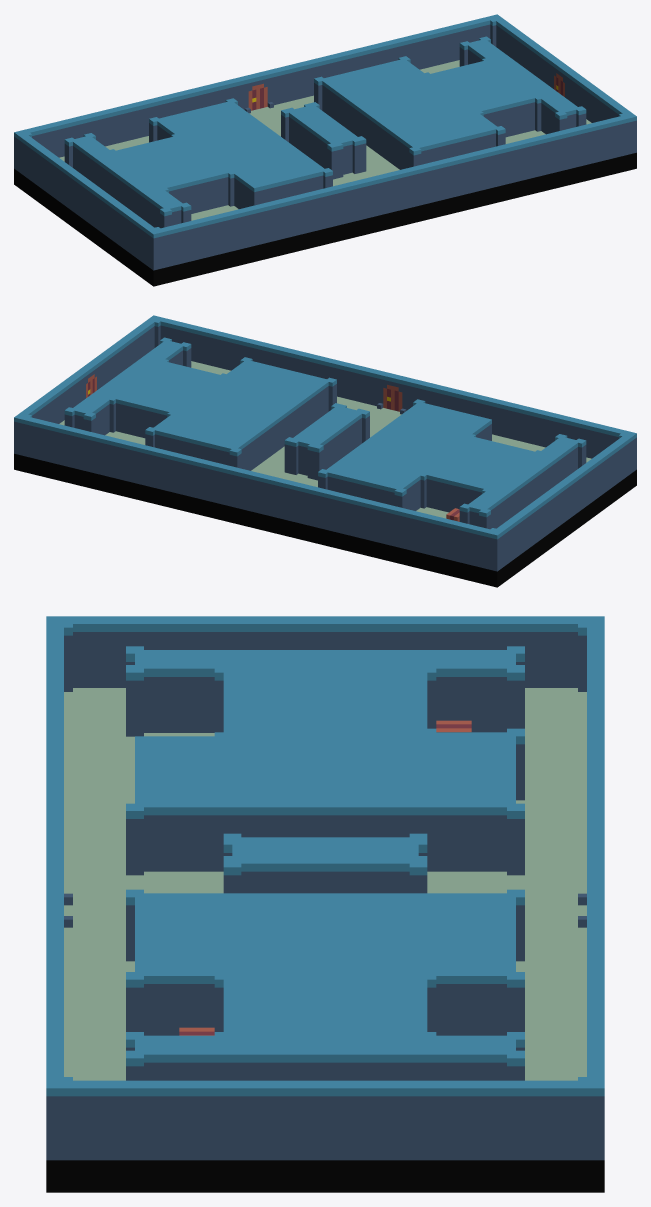
File: hab1.9.obj
3 views of the same model, one above another, from view 1: azimuth 30°, elevation 25°; view 2: azimuth 150°, elevation 25°; view 3: azimuth 270°, elevation 25° (orthographic). The views are drawn at different scales.
Size of the model in its own units: 126 by 13 by 63.
Materials: 1 (1 with a texture image).
